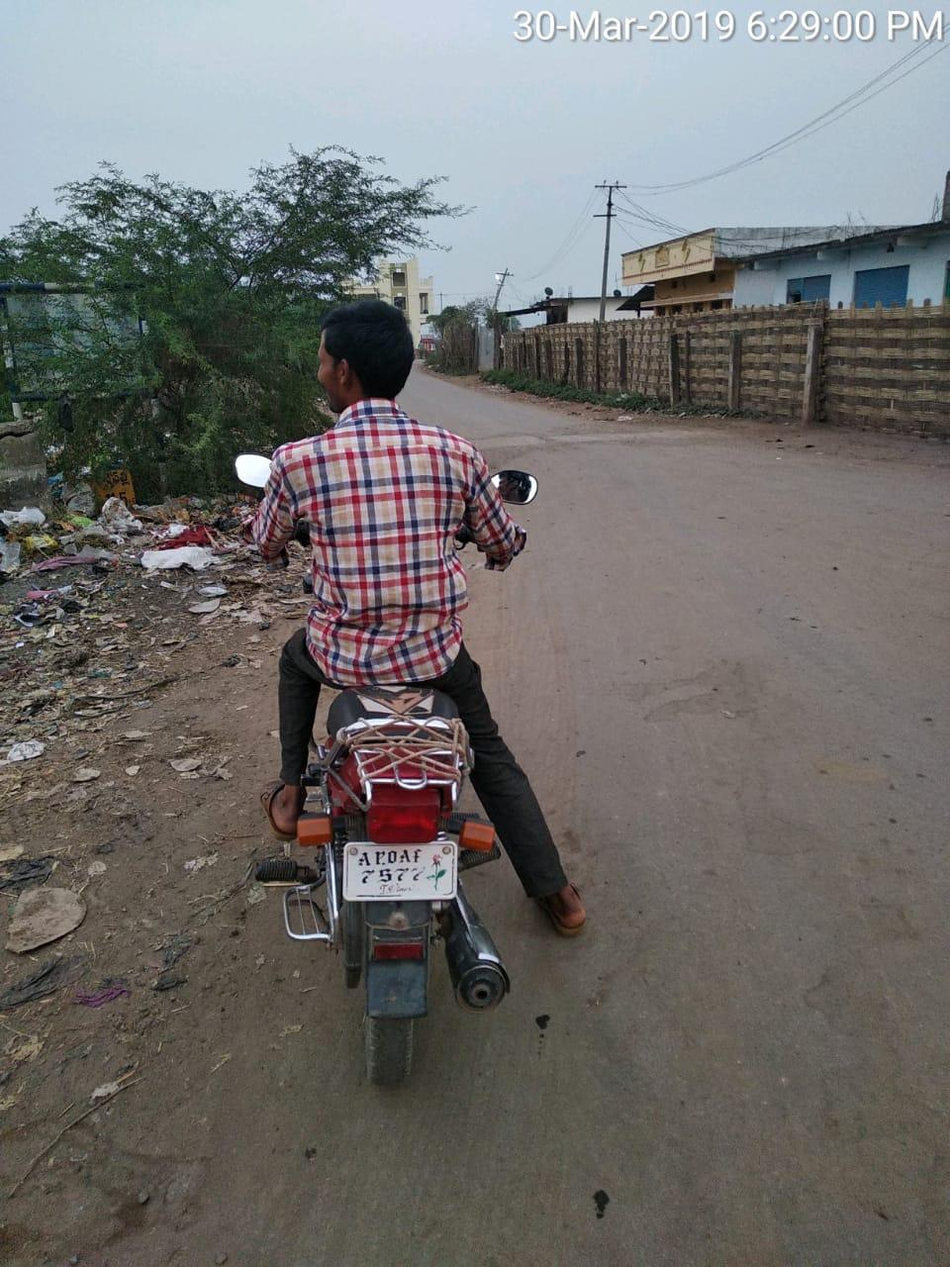plate: (319, 827, 481, 930)
